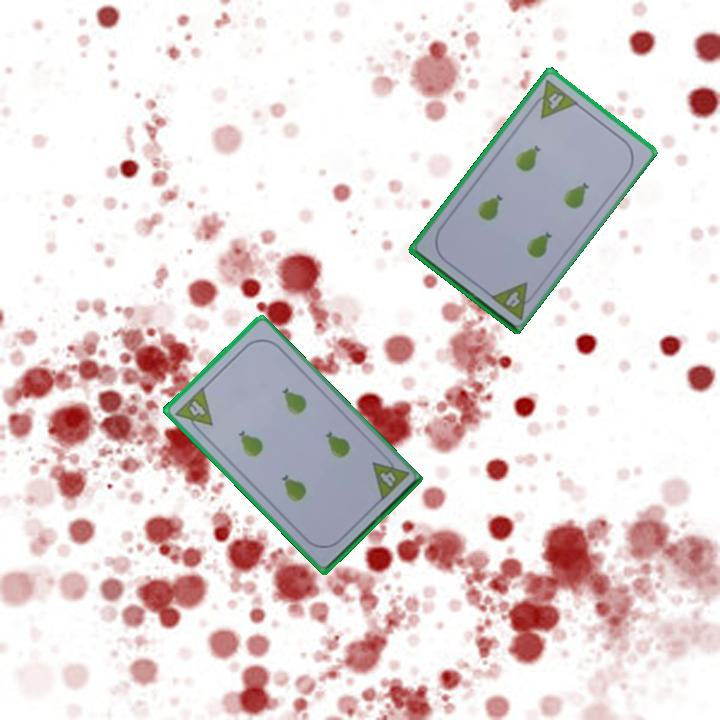4p: (526, 76, 581, 121), (171, 383, 216, 438), (486, 278, 540, 322), (369, 450, 411, 504)
